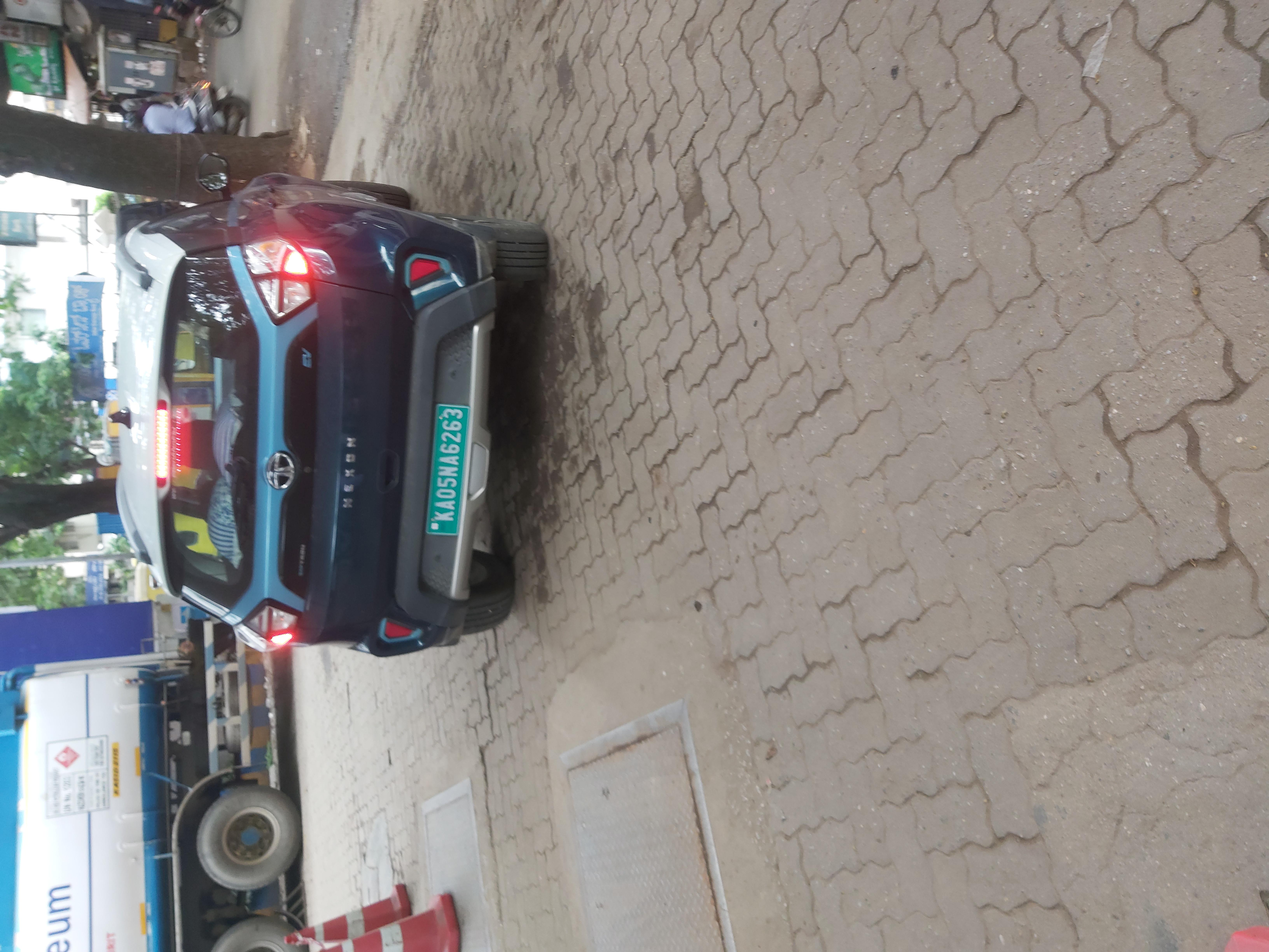green license plate: (543, 313, 734, 355)
